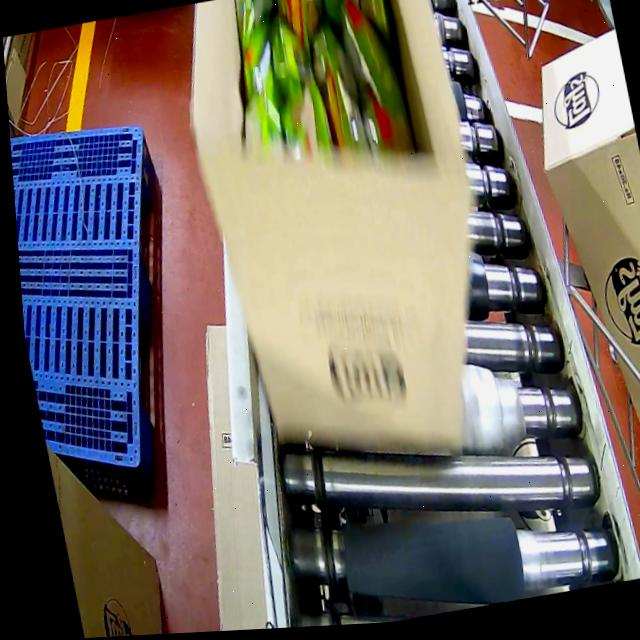YOGURT_HERB: (239, 0, 415, 180)
